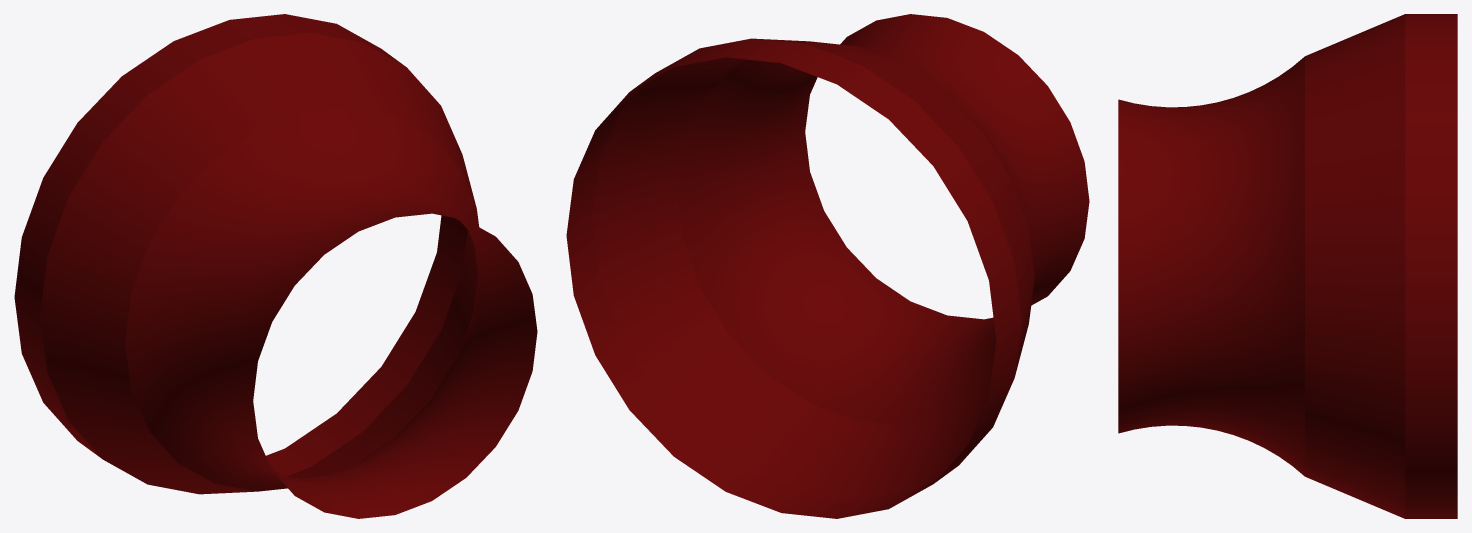
Rendered from original-16.obj.
3 renders of one model, left to right at view 1: azimuth 30°, elevation 25°; view 2: azimuth 150°, elevation 25°; view 3: azimuth 270°, elevation 25°, orthographic. The views are drawn at different scales.
Visible parts, largest first — view 1: mesh12/mesh12-geometry#mesh12-geometry; view 2: mesh12/mesh12-geometry#mesh12-geometry; view 3: mesh12/mesh12-geometry#mesh12-geometry.
Boxes of the visible parts, x1=… form: mesh12/mesh12-geometry#mesh12-geometry: x1=14, y1=14, x2=537, y2=518; mesh12/mesh12-geometry#mesh12-geometry: x1=566, y1=14, x2=1089, y2=518; mesh12/mesh12-geometry#mesh12-geometry: x1=1118, y1=14, x2=1457, y2=518.
Size of the model in its own units: 0.0149 by 0.0149 by 0.00997.
